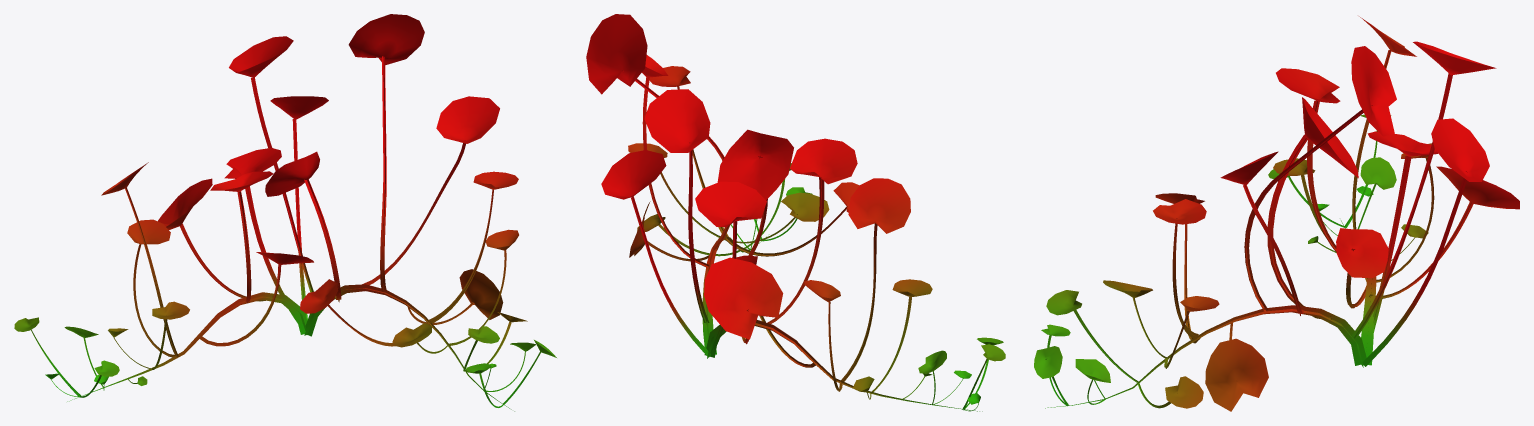
The model's file is Var3_LOD0.fbx.
3 views of the same model, side by side, from view 1: azimuth 30°, elevation 25°; view 2: azimuth 150°, elevation 25°; view 3: azimuth 270°, elevation 25° (orthographic). The views are drawn at different scales.
Visible parts, largest first — view 1: _25a6_Var3_LOD0; view 2: _25a6_Var3_LOD0; view 3: _25a6_Var3_LOD0.
Boxes of the visible parts, x1,y1,x2,y2 form: _25a6_Var3_LOD0: (14,14,556,411); _25a6_Var3_LOD0: (586,14,1005,411); _25a6_Var3_LOD0: (1034,16,1519,411).
Size of the model in its own units: 38.98 by 26.38 by 31.77.
